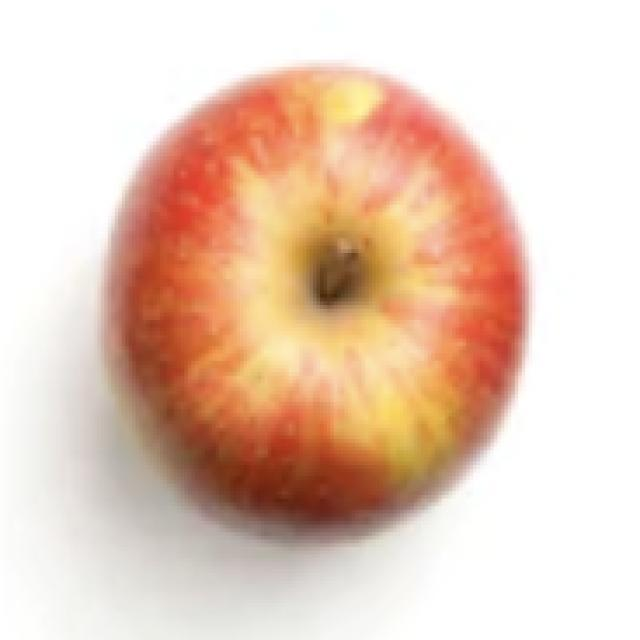Fresh Apple: (137, 85, 520, 507)
